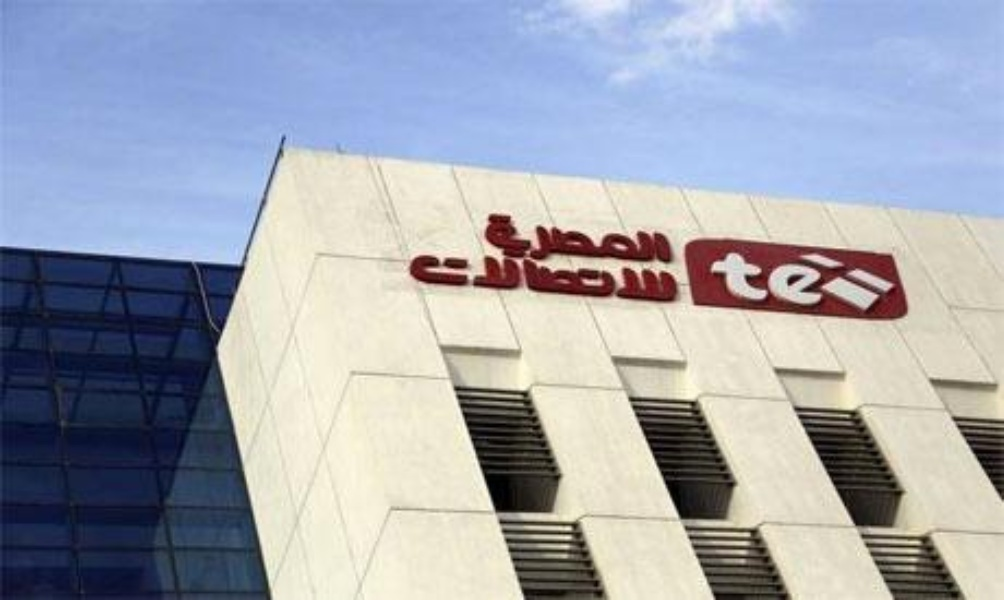text: (721, 247, 736, 317), (737, 247, 752, 317), (753, 247, 768, 317), (769, 247, 784, 317), (785, 247, 800, 317), (801, 247, 816, 317), (817, 247, 832, 317), (833, 247, 848, 317), (849, 247, 864, 317), (865, 247, 880, 317), (881, 247, 896, 317), (417, 243, 432, 306), (433, 243, 448, 306), (449, 243, 464, 306), (465, 243, 480, 306), (481, 243, 496, 306), (497, 243, 512, 306), (513, 243, 528, 306), (529, 243, 544, 306), (545, 243, 560, 306), (561, 243, 576, 306), (577, 243, 592, 306), (593, 243, 608, 306), (609, 243, 624, 306), (625, 243, 640, 306), (641, 243, 656, 306), (657, 243, 672, 306), (481, 208, 496, 269), (497, 208, 512, 269), (513, 208, 528, 269), (529, 208, 544, 269), (545, 208, 560, 269), (561, 208, 576, 269), (577, 208, 592, 269), (593, 208, 608, 269), (609, 208, 624, 269), (625, 208, 640, 269), (641, 208, 656, 269), (657, 208, 672, 269), (708, 247, 720, 317), (406, 243, 416, 306), (673, 243, 681, 306), (897, 247, 902, 317), (673, 208, 677, 269)
